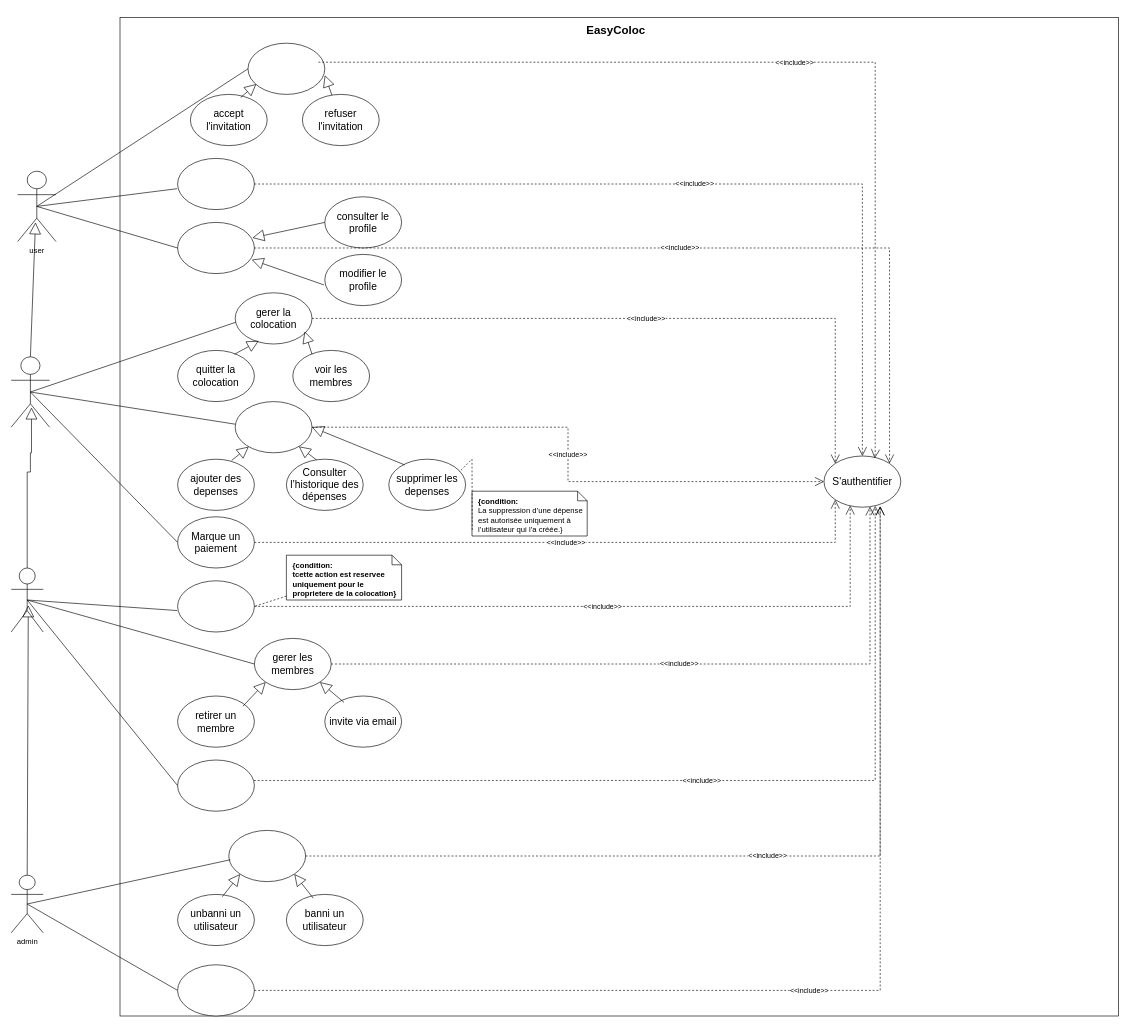
Image size: 1130x1027. Some labels were removed from this diagram. Here are the shapes that lost their labels. From the top down, the box of each, then its label:
(247, 43, 325, 94): gerer les invitation
(177, 158, 254, 210): creer colocation
(177, 222, 254, 274): gerer profile
(11, 356, 50, 427): member
(235, 401, 312, 453): gerer les depenses
(11, 567, 43, 632): Owner
(177, 580, 254, 632): annuler la colocation
(177, 759, 254, 811): ajouter les categorie
(228, 830, 306, 882): gerer les utilisateurs
(177, 964, 254, 1016): consulter les statistiques
